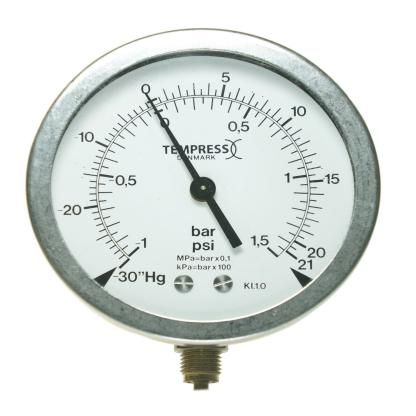needle: (142, 90, 201, 181)
